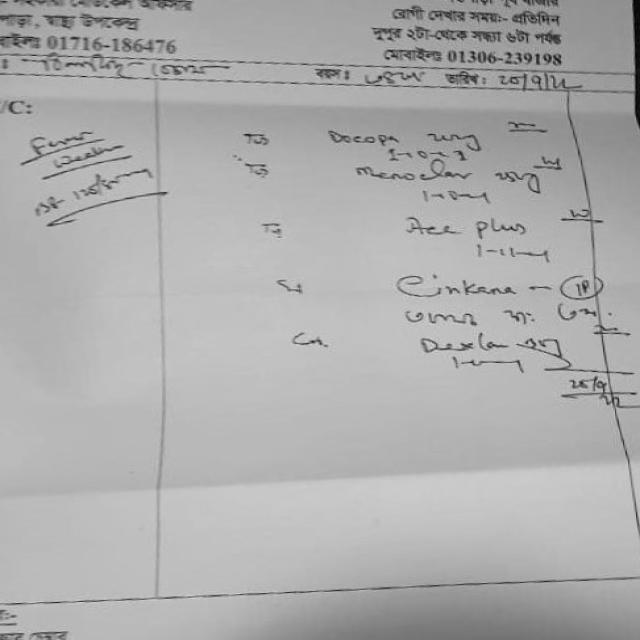Ace Plus: (381, 206, 536, 251)
Cinkara: (388, 269, 520, 308)
Dexlan: (411, 330, 510, 361)
Docopa: (320, 123, 410, 151)
Meroclav: (345, 153, 484, 191)
